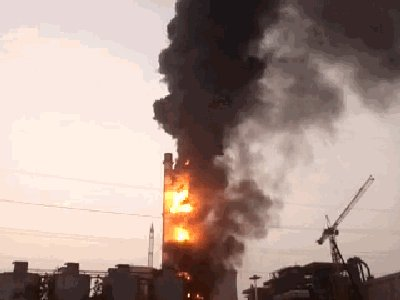fire: (164, 158, 204, 246)
smoke: (162, 3, 337, 139)
